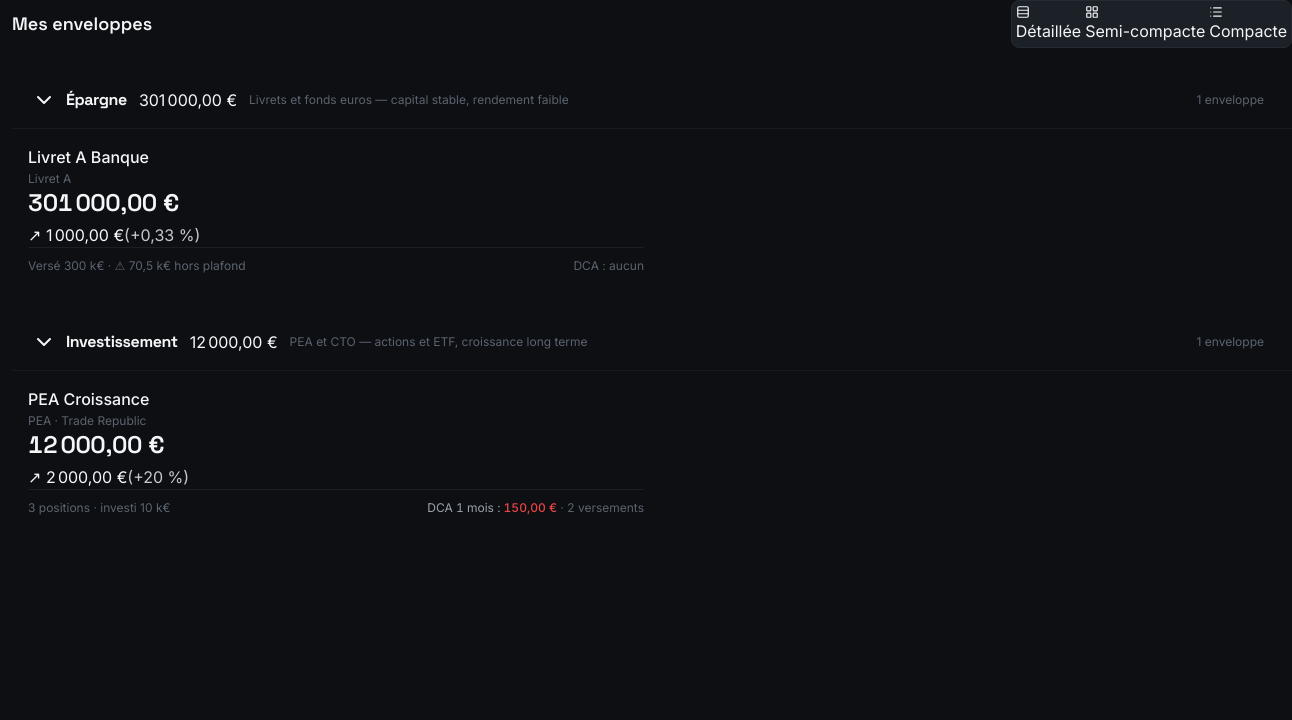
EnvelopeListPanel › replie et déplie une catégorie
Expected: the text "Livret A Banque" is shown, [28,147,149,167]
Click the button "Épargne": point(79, 100) [32,88,127,112]
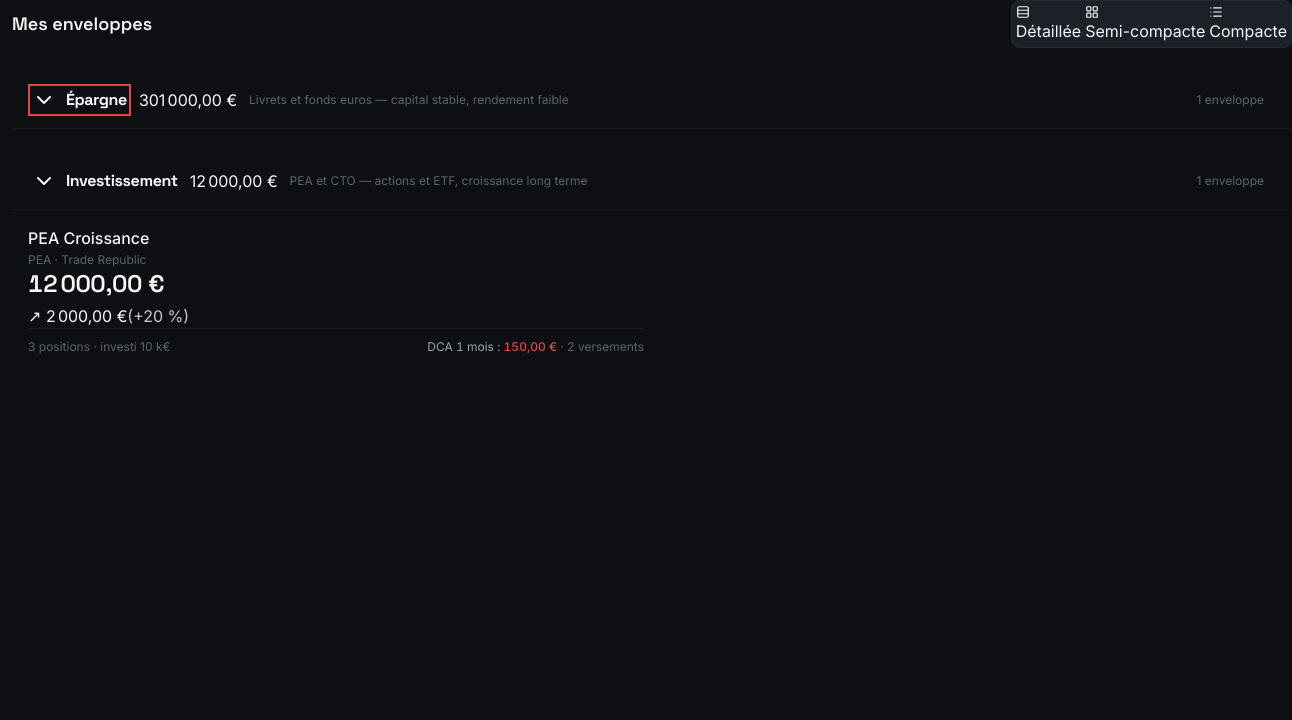
Result: the link "Livret A Banque" is gone
Click the button "Épargne": point(79, 100) [32,88,127,112]
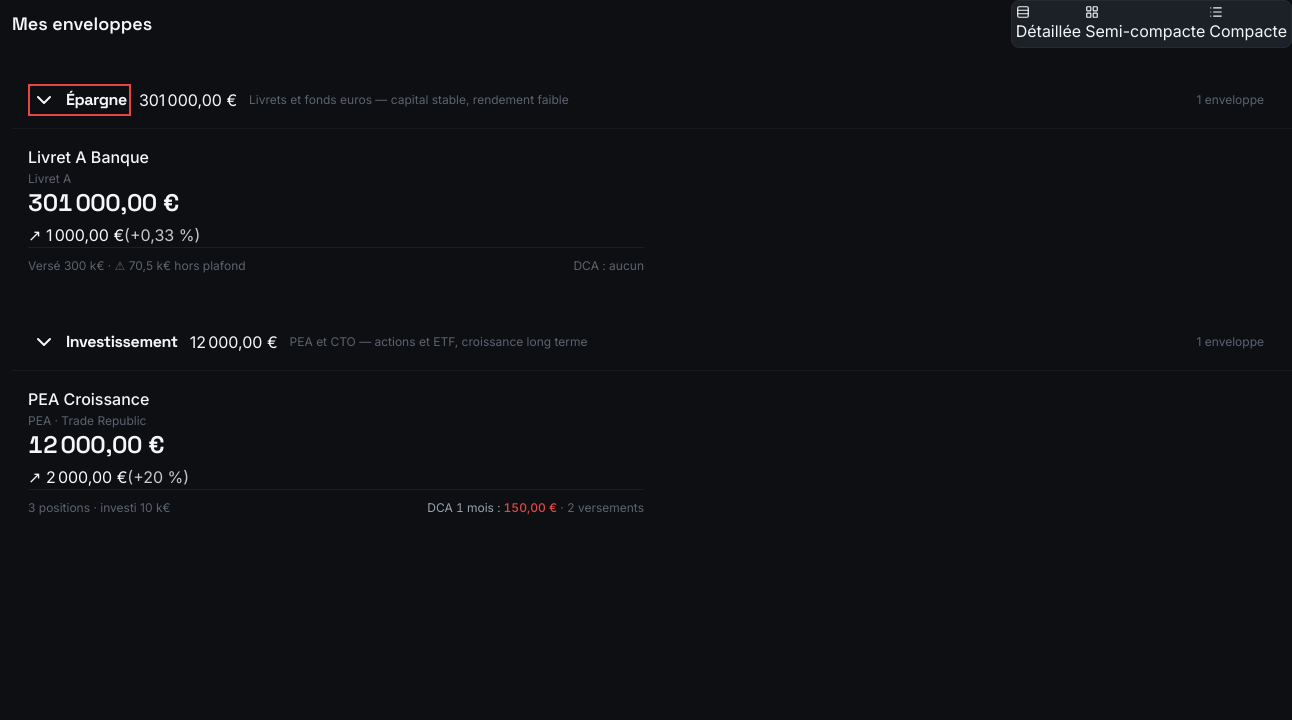
Result: the text "Livret A Banque" is shown at [28,147,149,167]
